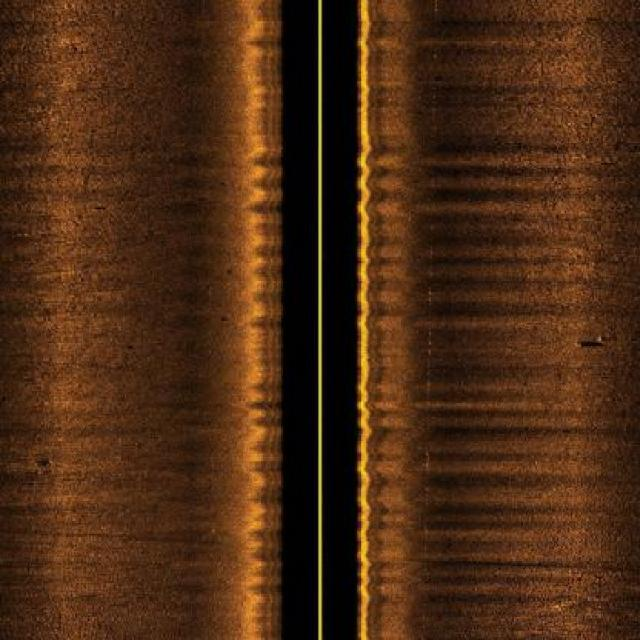other: (566, 337, 606, 349)
